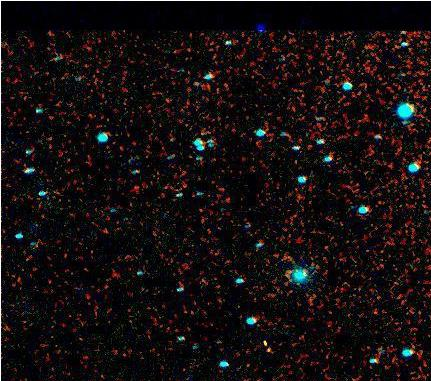star: (248, 334, 278, 364)
